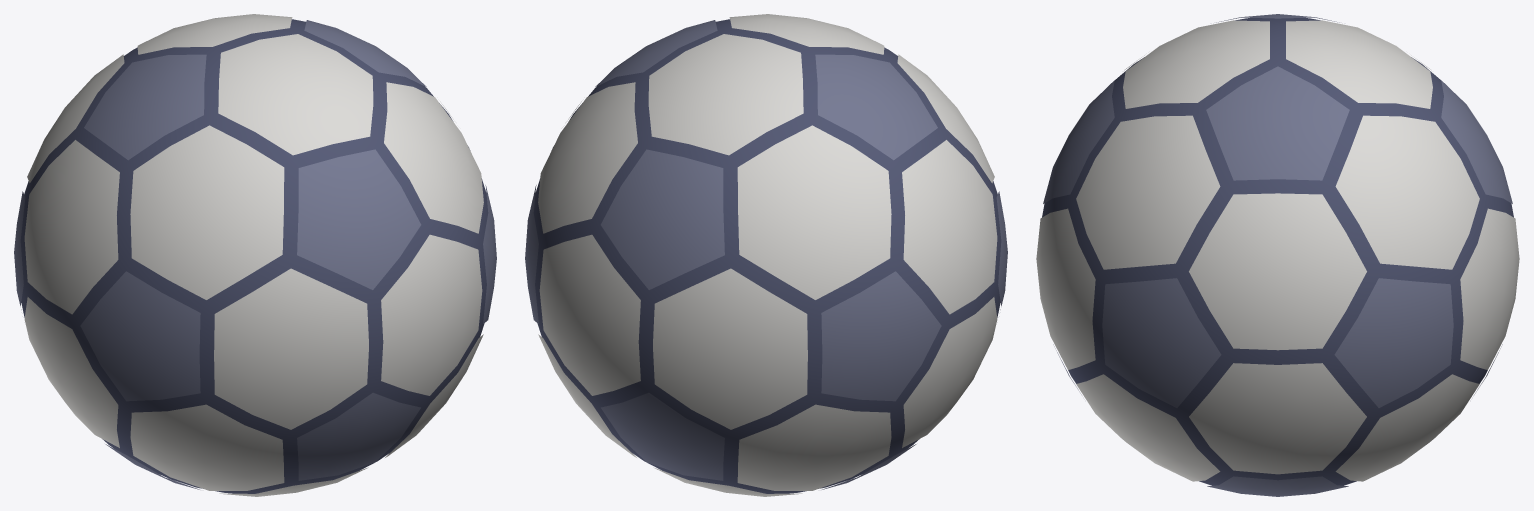
The model's file is football.glb.
3 views of the same model, side by side, from view 1: azimuth 30°, elevation 25°; view 2: azimuth 150°, elevation 25°; view 3: azimuth 270°, elevation 25° (orthographic).
Parts seen in each view (by area): view 1: football; view 2: football; view 3: football.
Boxes of the visible parts, x1,y1,x2,y2 form: football: (14, 14, 496, 496); football: (525, 14, 1007, 496); football: (1036, 14, 1519, 496).
Size of the model in its own units: 2 by 2 by 2.
